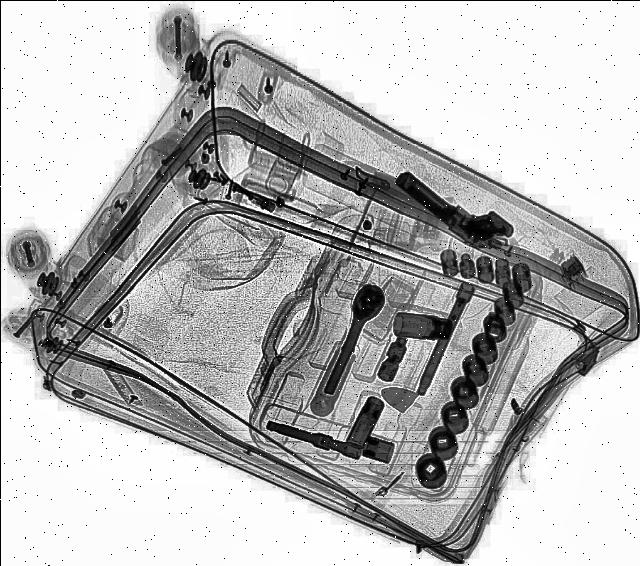Gun: (388, 153, 516, 255)
